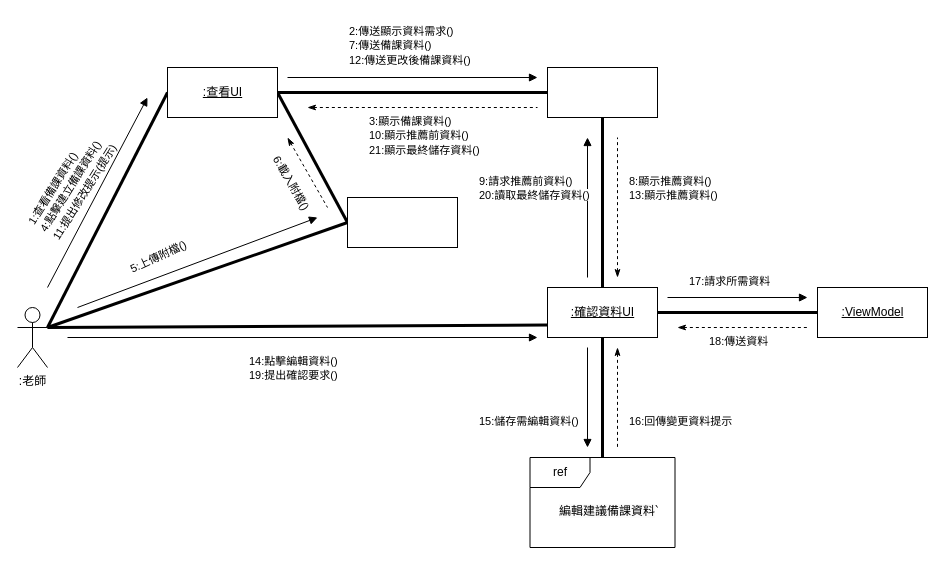
This 945x565 diagram has some shape labels left out. The centre of each missing label's shape, as x and y in pixels:
":AC" goes at point (602, 92).
":載入資料UI" goes at point (402, 222).
